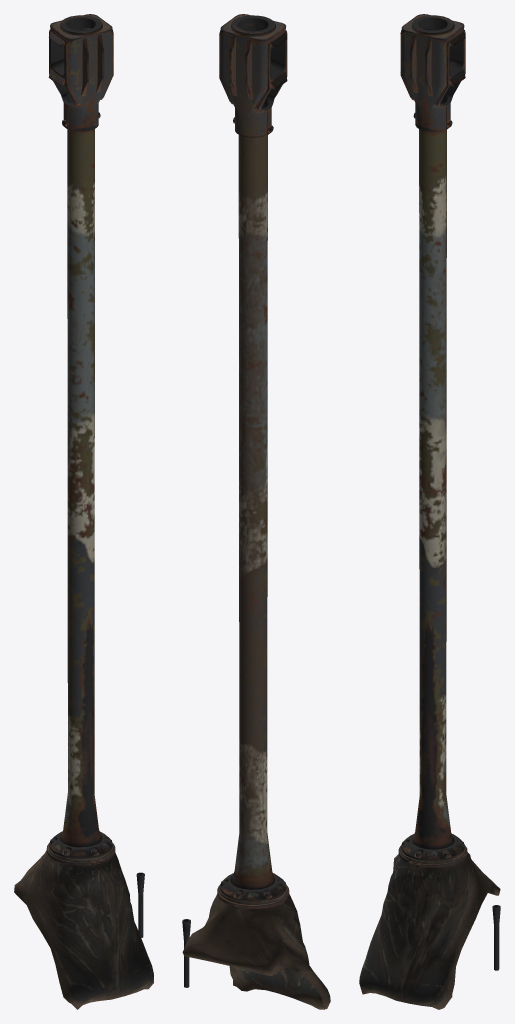
The model's file is Gun_07.glb.
3 views of the same model, side by side, from view 1: azimuth 30°, elevation 25°; view 2: azimuth 150°, elevation 25°; view 3: azimuth 330°, elevation 25° (orthographic). The views are drawn at different scales.
Parts seen in each view (by area): view 1: set_0_group_0; view 2: set_0_group_0; view 3: set_0_group_0.
Boxes of the visible parts, box(x1,y1,x2,y2) form: set_0_group_0: box(14, 14, 153, 1009); set_0_group_0: box(182, 14, 330, 1009); set_0_group_0: box(359, 14, 500, 1009).
Bounding box in the file's own units: 0.6514 × 5.41 × 0.6362.
Materials: 1 (1 with a texture image).
